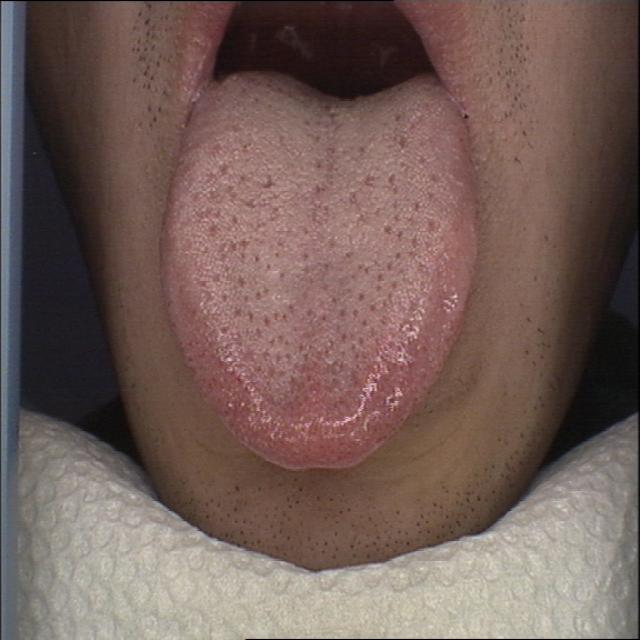tongue: (156, 58, 494, 482)
